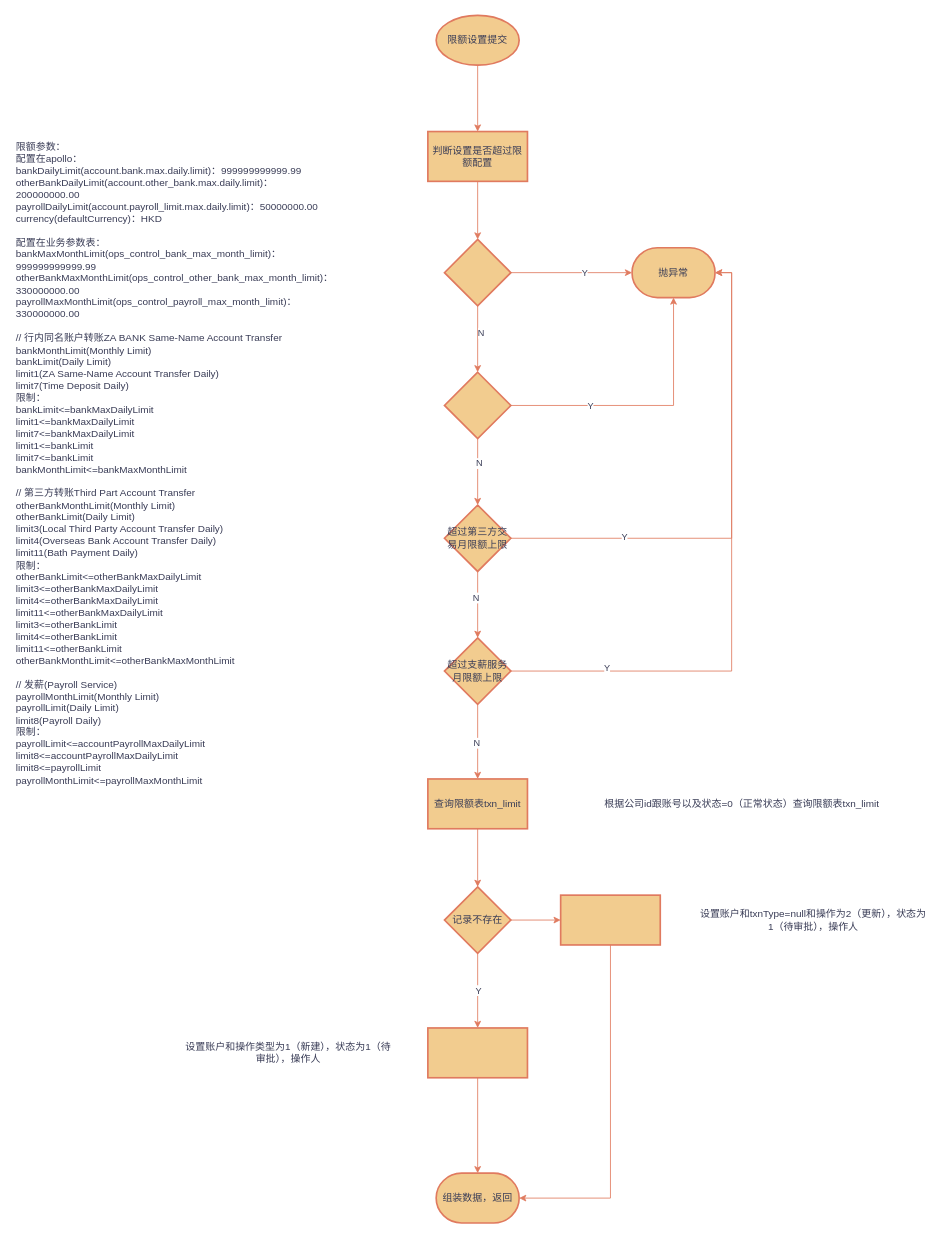
This 941x1238 diagram has some shape labels left out. The centre of each missing label's shape, as x and y in pixels:
"创建一个新对象" goes at [477,1052].
"更新记录" goes at [610,919].
"超过上限" goes at [477,272].
"超过月限额上限" goes at [477,405].
